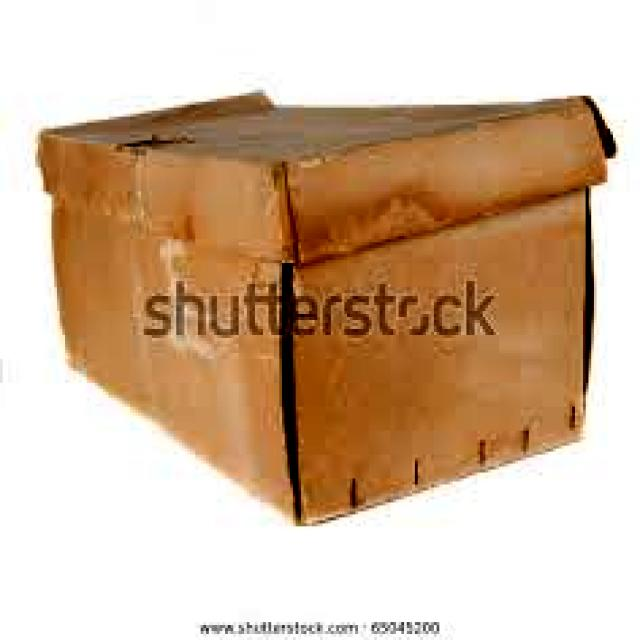Cardboard: (37, 89, 617, 526)
